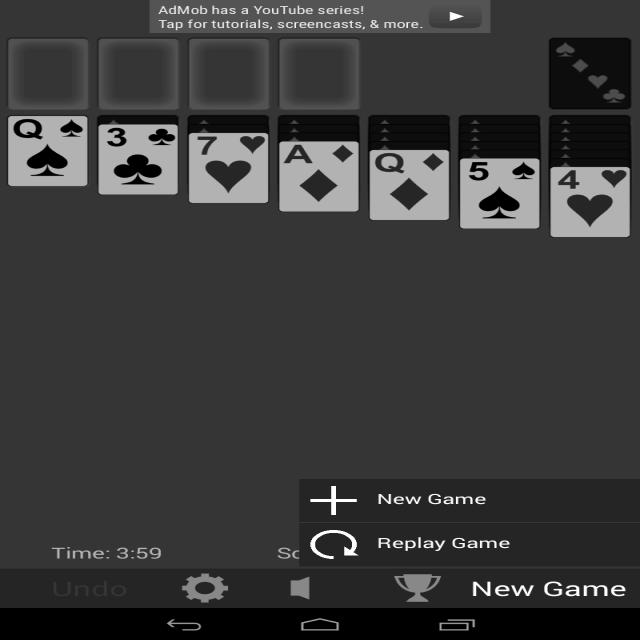Button: (428, 3, 486, 30)
ImageButton: (176, 572, 236, 608), (391, 572, 452, 606), (281, 574, 329, 604)
ImageView: (11, 38, 634, 240), (306, 481, 364, 517), (309, 528, 364, 562)
Spinner: (49, 542, 167, 564)
TextView: (154, 5, 418, 31), (470, 580, 628, 602), (377, 534, 518, 550), (372, 490, 493, 508), (48, 576, 134, 600)
